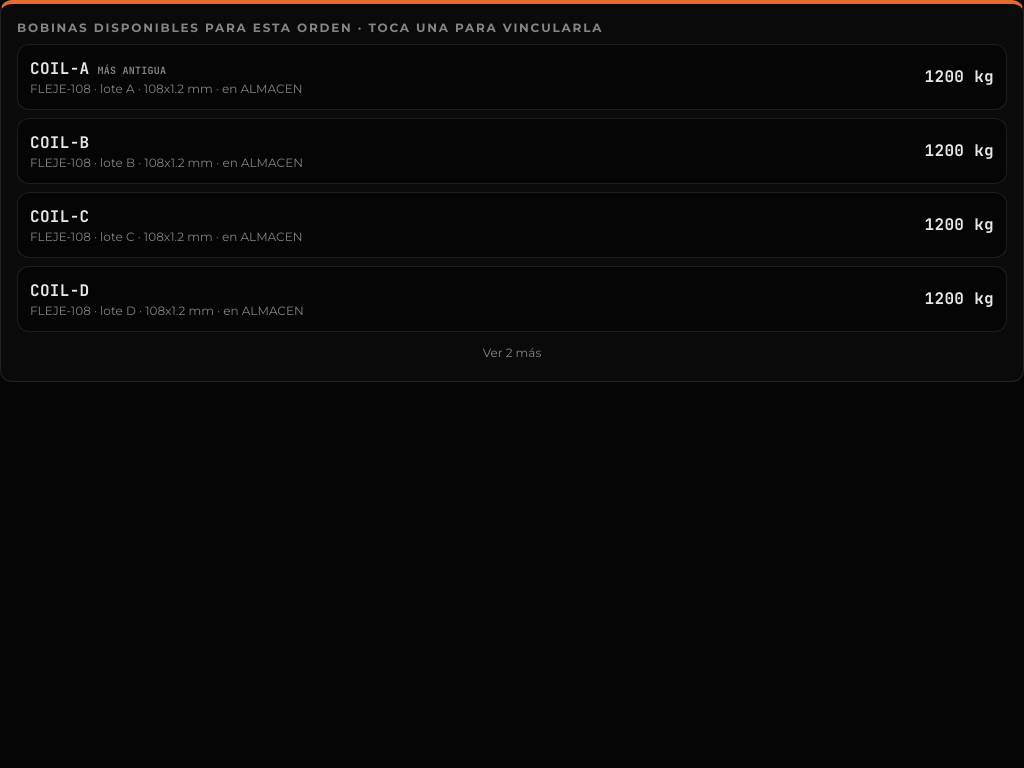
it: Bobinas disponibles (sin saberse el código) › enseña solo las 4 primeras y el resto queda tras «Ver más»
Expected: the text "COIL-A" is shown, [30,58,90,79]
Expected: the text "COIL-D" is shown, [30,280,90,301]
Click the button "Ver 2 más". click: [512, 353]
box: [17,341,1007,365]
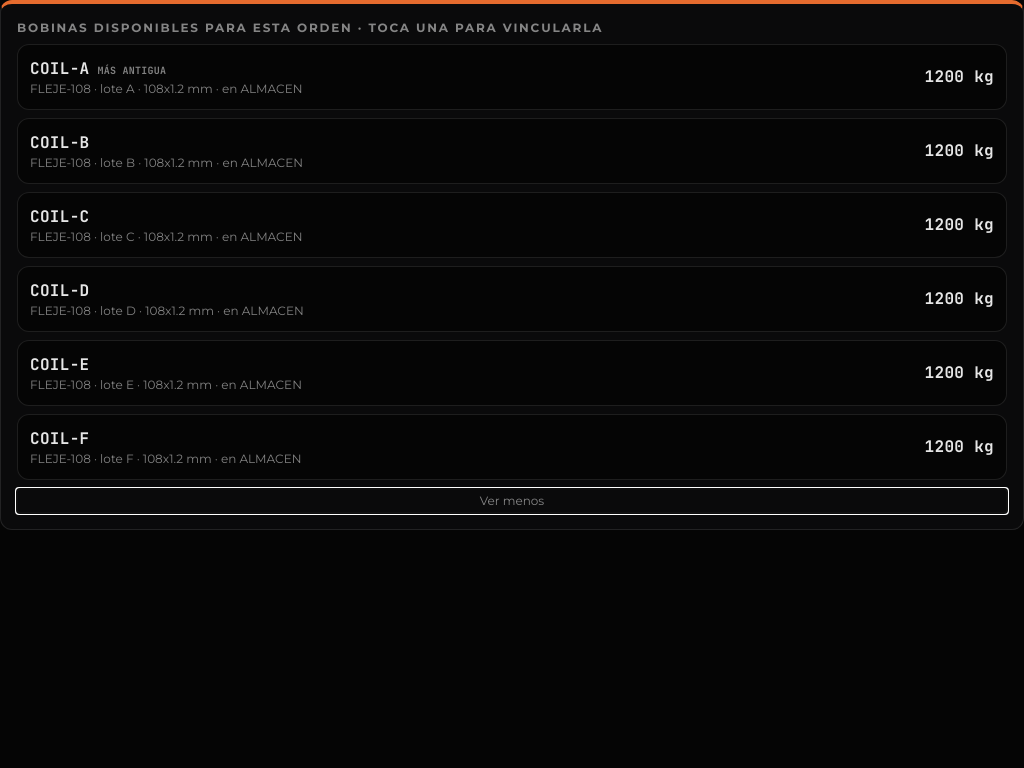
Now the text "COIL-F" is shown, box [30,428,90,449]
Click the button "Ver menos". click: [512, 501]
box: [17,489,1007,513]
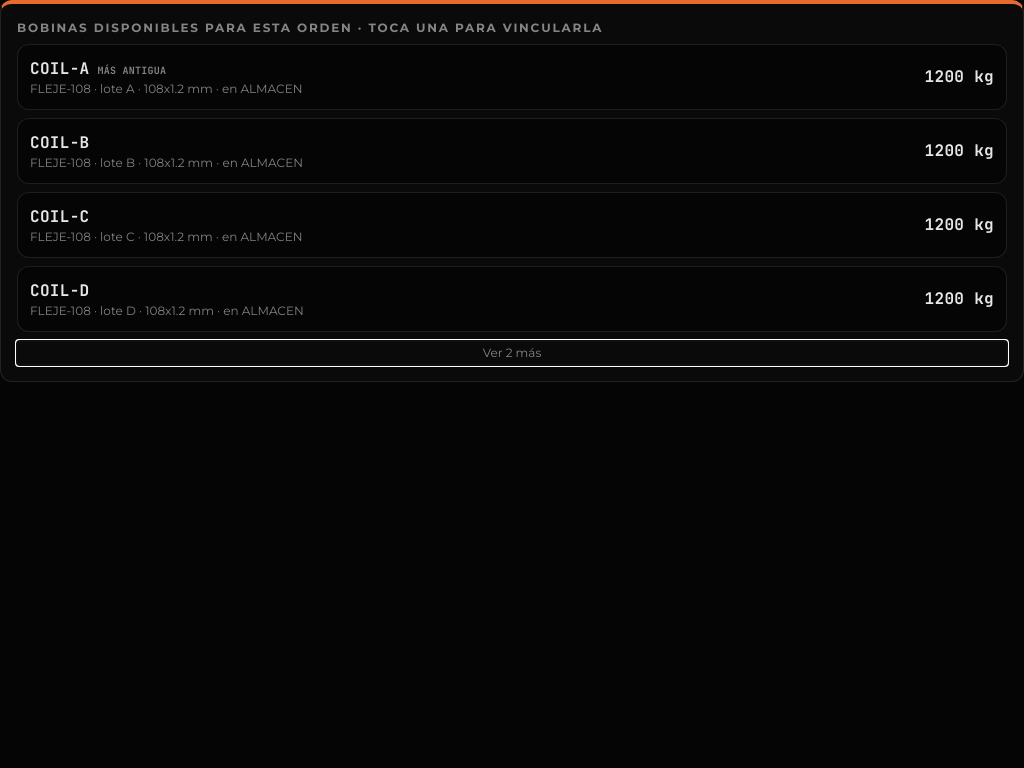
Now the button "COIL-E" is gone
